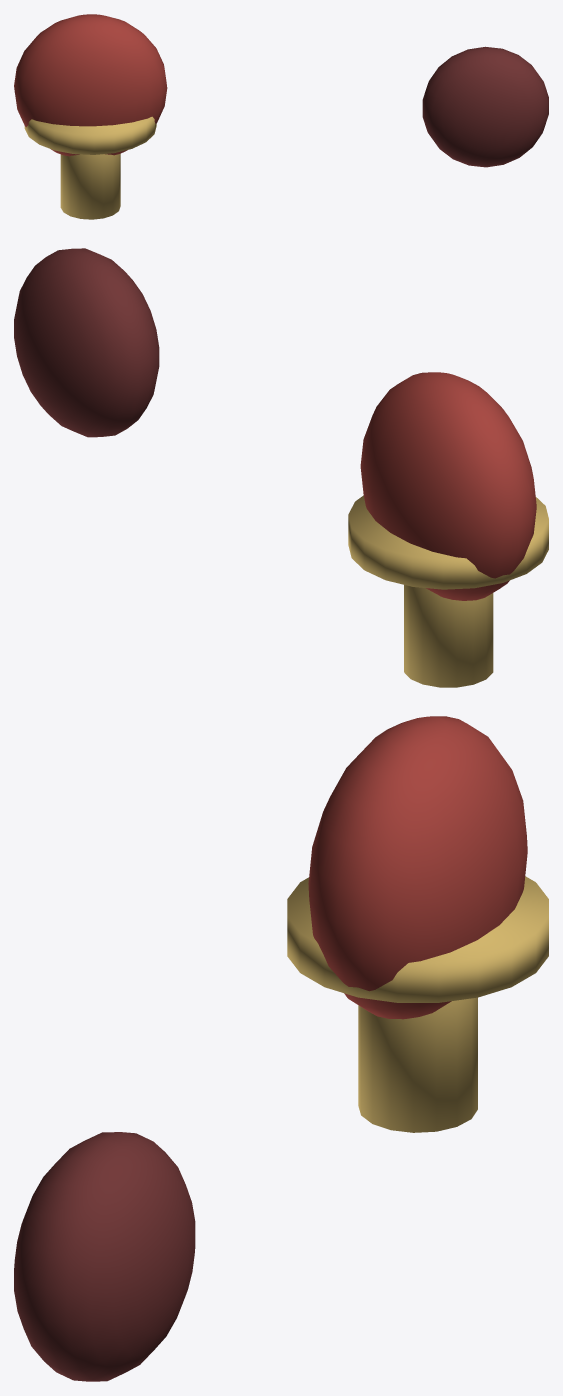
The model's file is capture.glb.
3 views of the same model, one above another, from view 1: azimuth 30°, elevation 25°; view 2: azimuth 150°, elevation 25°; view 3: azimuth 270°, elevation 25° (orthographic). The views are drawn at different scales.
Visible parts, largest first — view 1: ipm_plg_knob, ipm_lamp_dome, ipm_plg_rod, ipm_plg_knob_band; view 2: ipm_plg_knob, ipm_lamp_dome, ipm_plg_rod, ipm_plg_knob_band; view 3: ipm_plg_knob, ipm_lamp_dome, ipm_plg_rod, ipm_plg_knob_band.
Boxes of the visible parts, <box> form: ipm_plg_knob: <box>14,14,167,156</box>; ipm_lamp_dome: <box>422,46,548,167</box>; ipm_plg_rod: <box>60,153,120,219</box>; ipm_plg_knob_band: <box>24,116,156,154</box>; ipm_plg_knob: <box>360,372,536,600</box>; ipm_lamp_dome: <box>14,248,159,437</box>; ipm_plg_rod: <box>404,585,493,687</box>; ipm_plg_knob_band: <box>348,495,548,589</box>; ipm_plg_knob: <box>308,716,527,1019</box>; ipm_lamp_dome: <box>14,1132,195,1381</box>; ipm_plg_rod: <box>358,997,477,1132</box>; ipm_plg_knob_band: <box>287,876,548,1002</box>.
Bounding box in the file's own units: 0.1126 × 0.0475 × 0.0606.
